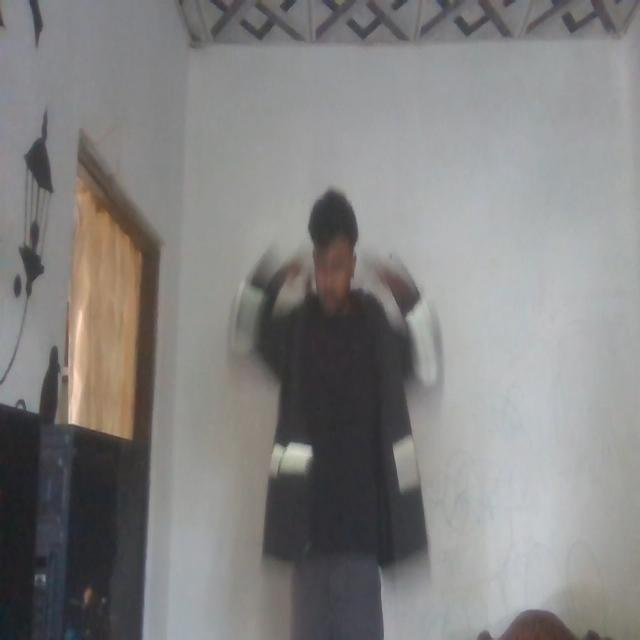Jacket_Wearer: (207, 259, 445, 542)
Person: (240, 172, 424, 640)
